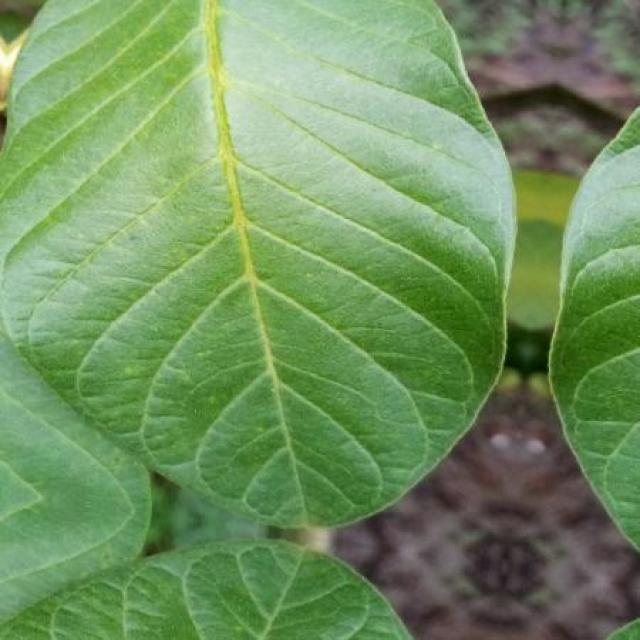Disease Free: (0, 0, 514, 526), (0, 333, 411, 640), (550, 109, 640, 548)
